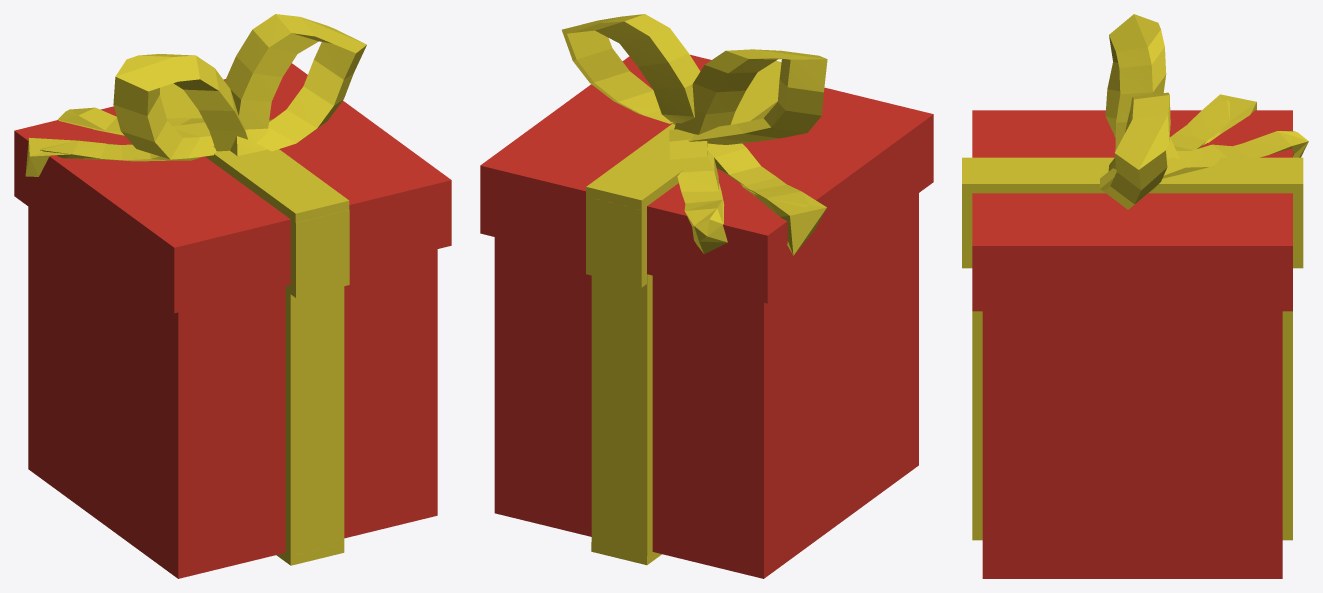
The model's file is giftbox.glb.
The picture shows the model from 3 angles, left to right: view 1: azimuth 30°, elevation 25°; view 2: azimuth 150°, elevation 25°; view 3: azimuth 270°, elevation 25°; orthographic projection. The views are drawn at different scales.
Visible parts, largest first — view 1: node_MeshObject-23165952-PolyPaper21; view 2: node_MeshObject-23165952-PolyPaper21; view 3: node_MeshObject-23165952-PolyPaper21.
Boxes of the visible parts, <box> form: node_MeshObject-23165952-PolyPaper21: <box>14,14,451,578</box>; node_MeshObject-23165952-PolyPaper21: <box>480,14,933,578</box>; node_MeshObject-23165952-PolyPaper21: <box>962,14,1308,578</box>.
Size of the model in its own units: 0.5605 by 0.8246 by 0.5638.
